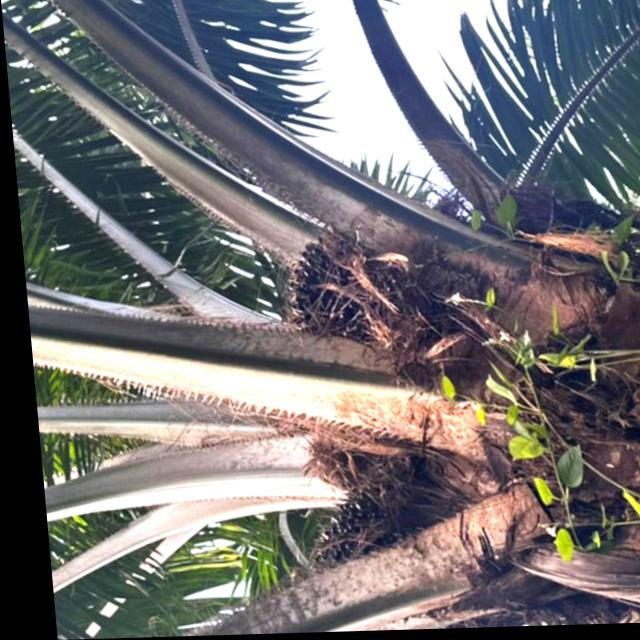almost: (271, 227, 433, 356)
